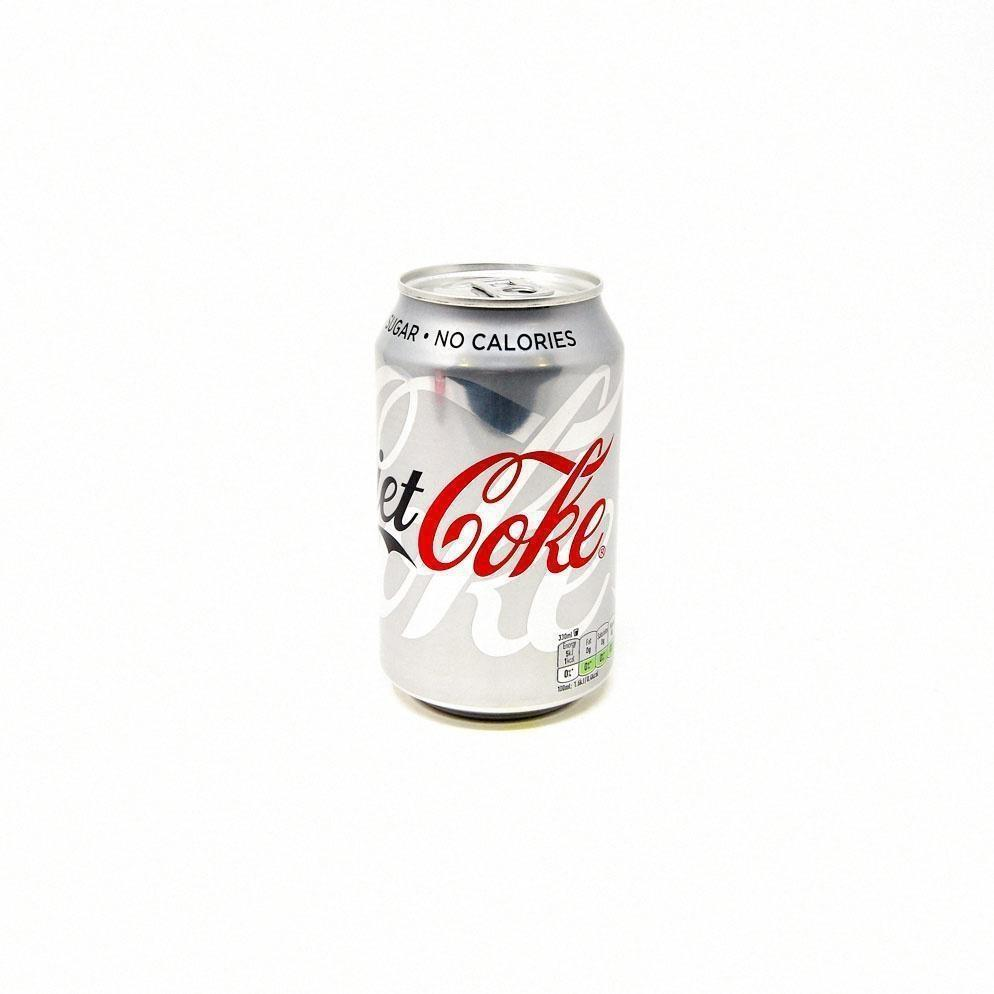tin can: (372, 258, 626, 728)
